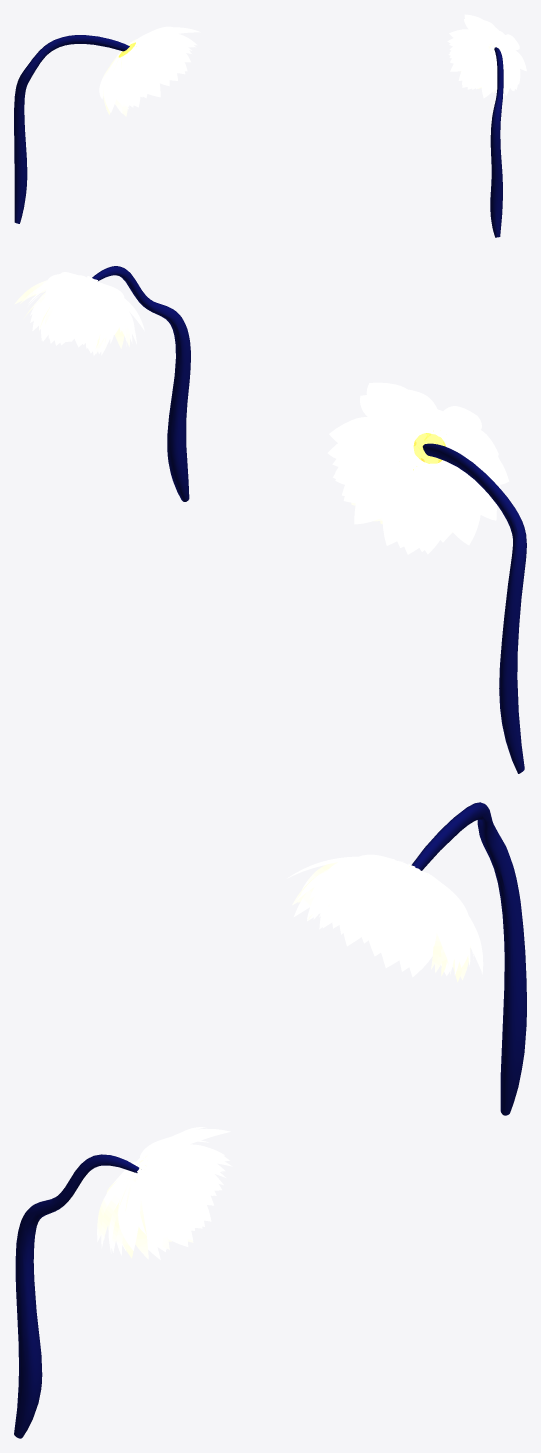
File: flowers.gltf
The picture shows the model from 3 angles, top to bottom: view 1: azimuth 30°, elevation 25°; view 2: azimuth 150°, elevation 25°; view 3: azimuth 270°, elevation 25°; orthographic projection. The views are drawn at different scales.
Parts seen in each view (by area): view 1: flowers; view 2: flowers; view 3: flowers.
Part boxes in pixels (box(x1,y1,x2,y2)): flowers: box(14, 14, 526, 237); flowers: box(14, 266, 526, 773); flowers: box(14, 802, 526, 1438).
Bounding box in the file's own units: 4.98 × 2.22 × 2.84.
